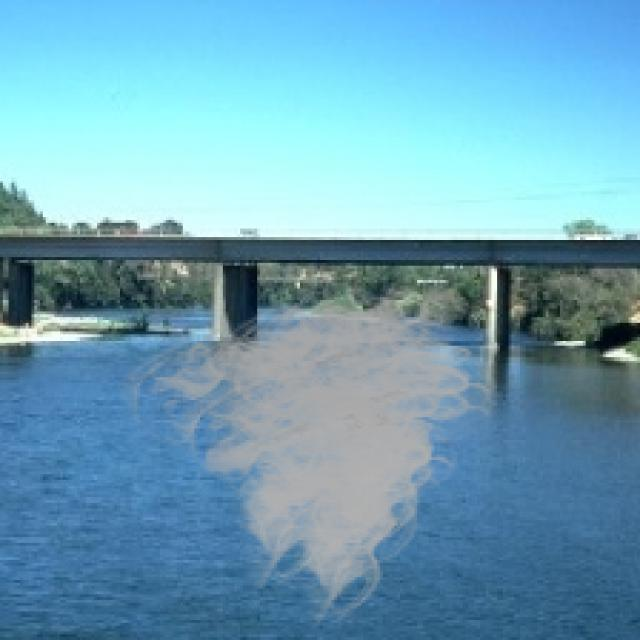smoke: (117, 266, 506, 626)
